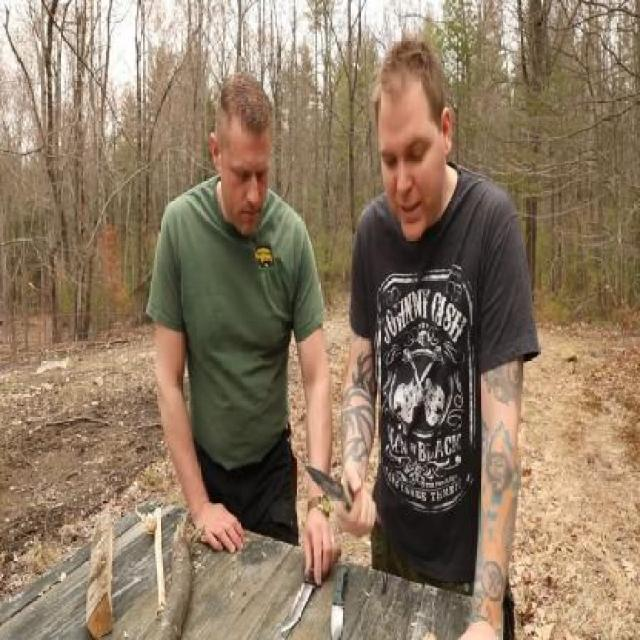-: (300, 450, 385, 539)
